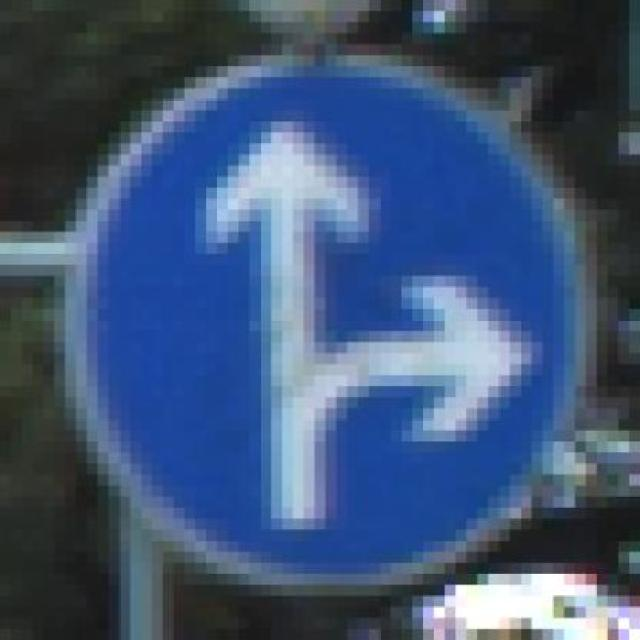Go Straight or Turn Right: (32, 44, 618, 618)
